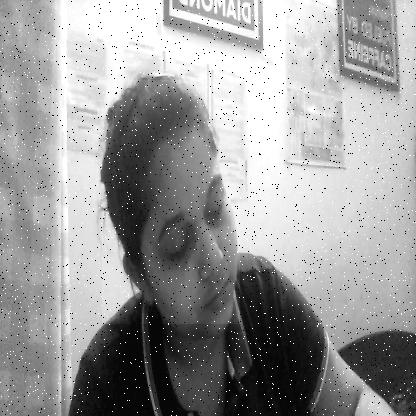Distracted: (102, 80, 240, 324)
